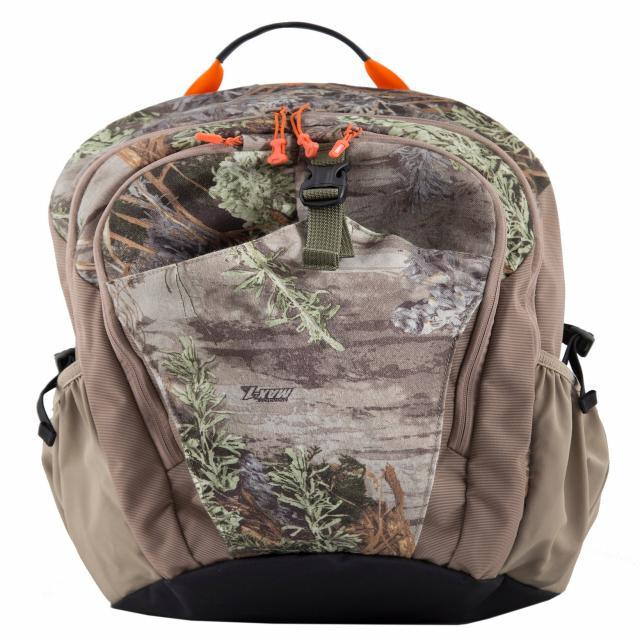Backpacks: (46, 78, 615, 627)
